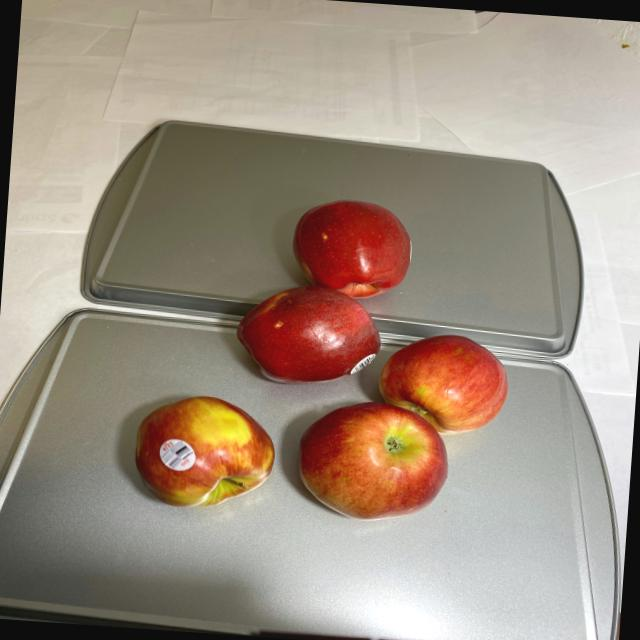apple: (130, 184, 519, 526)
